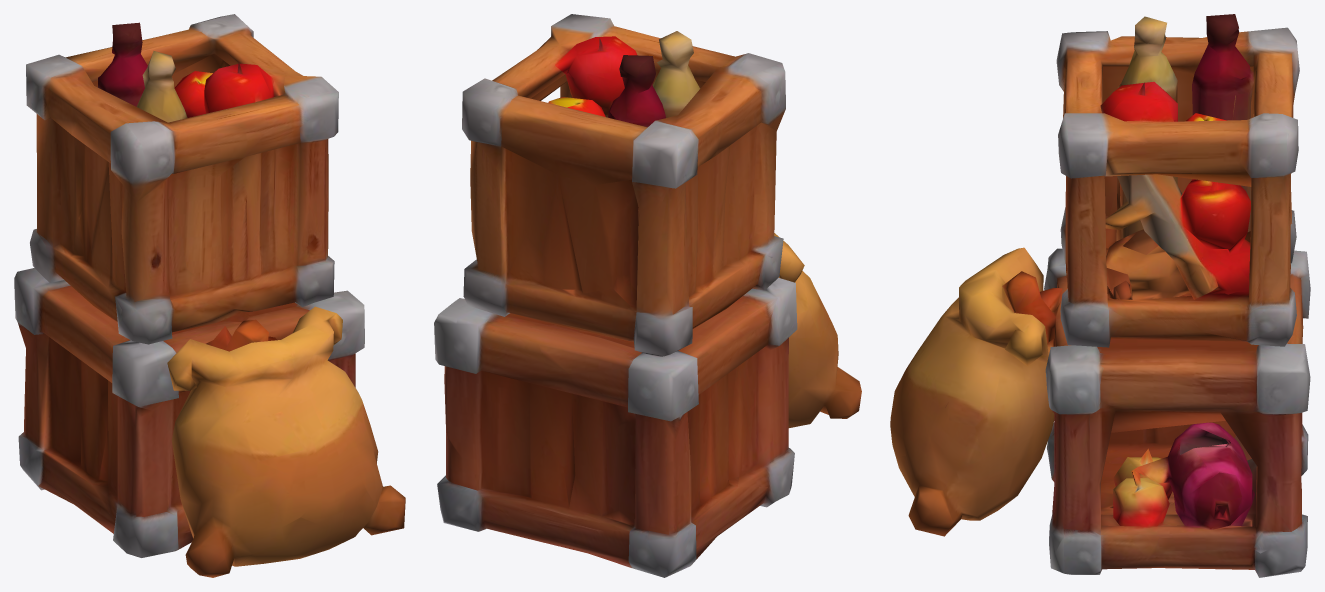
Rendered from supply_crates-CAQu5iMC.glb.
3 renders of one model, left to right at view 1: azimuth 30°, elevation 25°; view 2: azimuth 150°, elevation 25°; view 3: azimuth 270°, elevation 25°, orthographic. The views are drawn at different scales.
Visible parts, largest first — view 1: tripo_node_2214b3f7-92fa-43c1-9bec-a9e3785fc51e; view 2: tripo_node_2214b3f7-92fa-43c1-9bec-a9e3785fc51e; view 3: tripo_node_2214b3f7-92fa-43c1-9bec-a9e3785fc51e.
Part boxes in pixels (<box>): tripo_node_2214b3f7-92fa-43c1-9bec-a9e3785fc51e: <box>14,14,405,577</box>; tripo_node_2214b3f7-92fa-43c1-9bec-a9e3785fc51e: <box>434,14,861,577</box>; tripo_node_2214b3f7-92fa-43c1-9bec-a9e3785fc51e: <box>890,14,1310,577</box>.
Size of the model in its own units: 0.5429 by 1 by 0.7897.
1 material, 1 textured.
